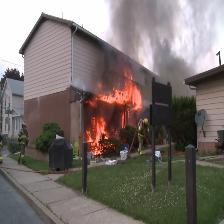fire: (75, 73, 147, 164)
smoke: (90, 0, 224, 88)
